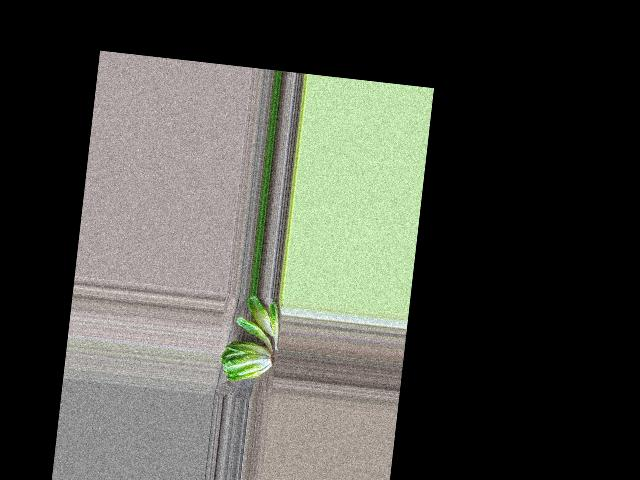lettuce: (219, 336, 273, 386)
